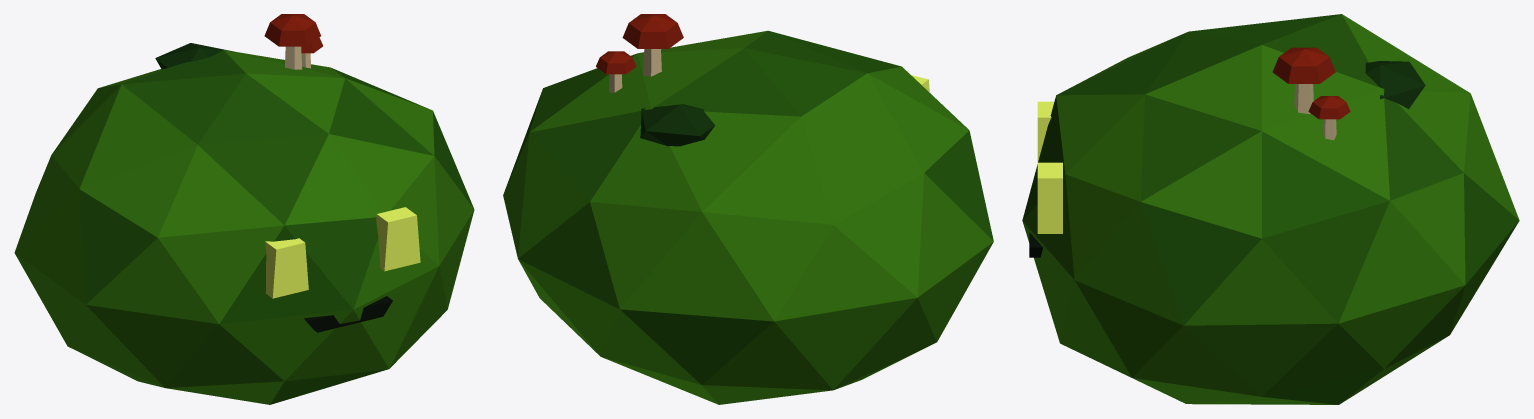
Rendered from LodoMusgoso.fbx.
3 views of the same model, side by side, from view 1: azimuth 30°, elevation 25°; view 2: azimuth 150°, elevation 25°; view 3: azimuth 270°, elevation 25° (orthographic). The views are drawn at different scales.
Visible parts, largest first — view 1: Body; view 2: Body; view 3: Body.
Boxes of the visible parts, bbox=[...] form: Body: bbox=[14, 14, 474, 404]; Body: bbox=[503, 14, 993, 404]; Body: bbox=[1022, 14, 1519, 404].
Size of the model in its own units: 1.18 by 0.9 by 1.18.
